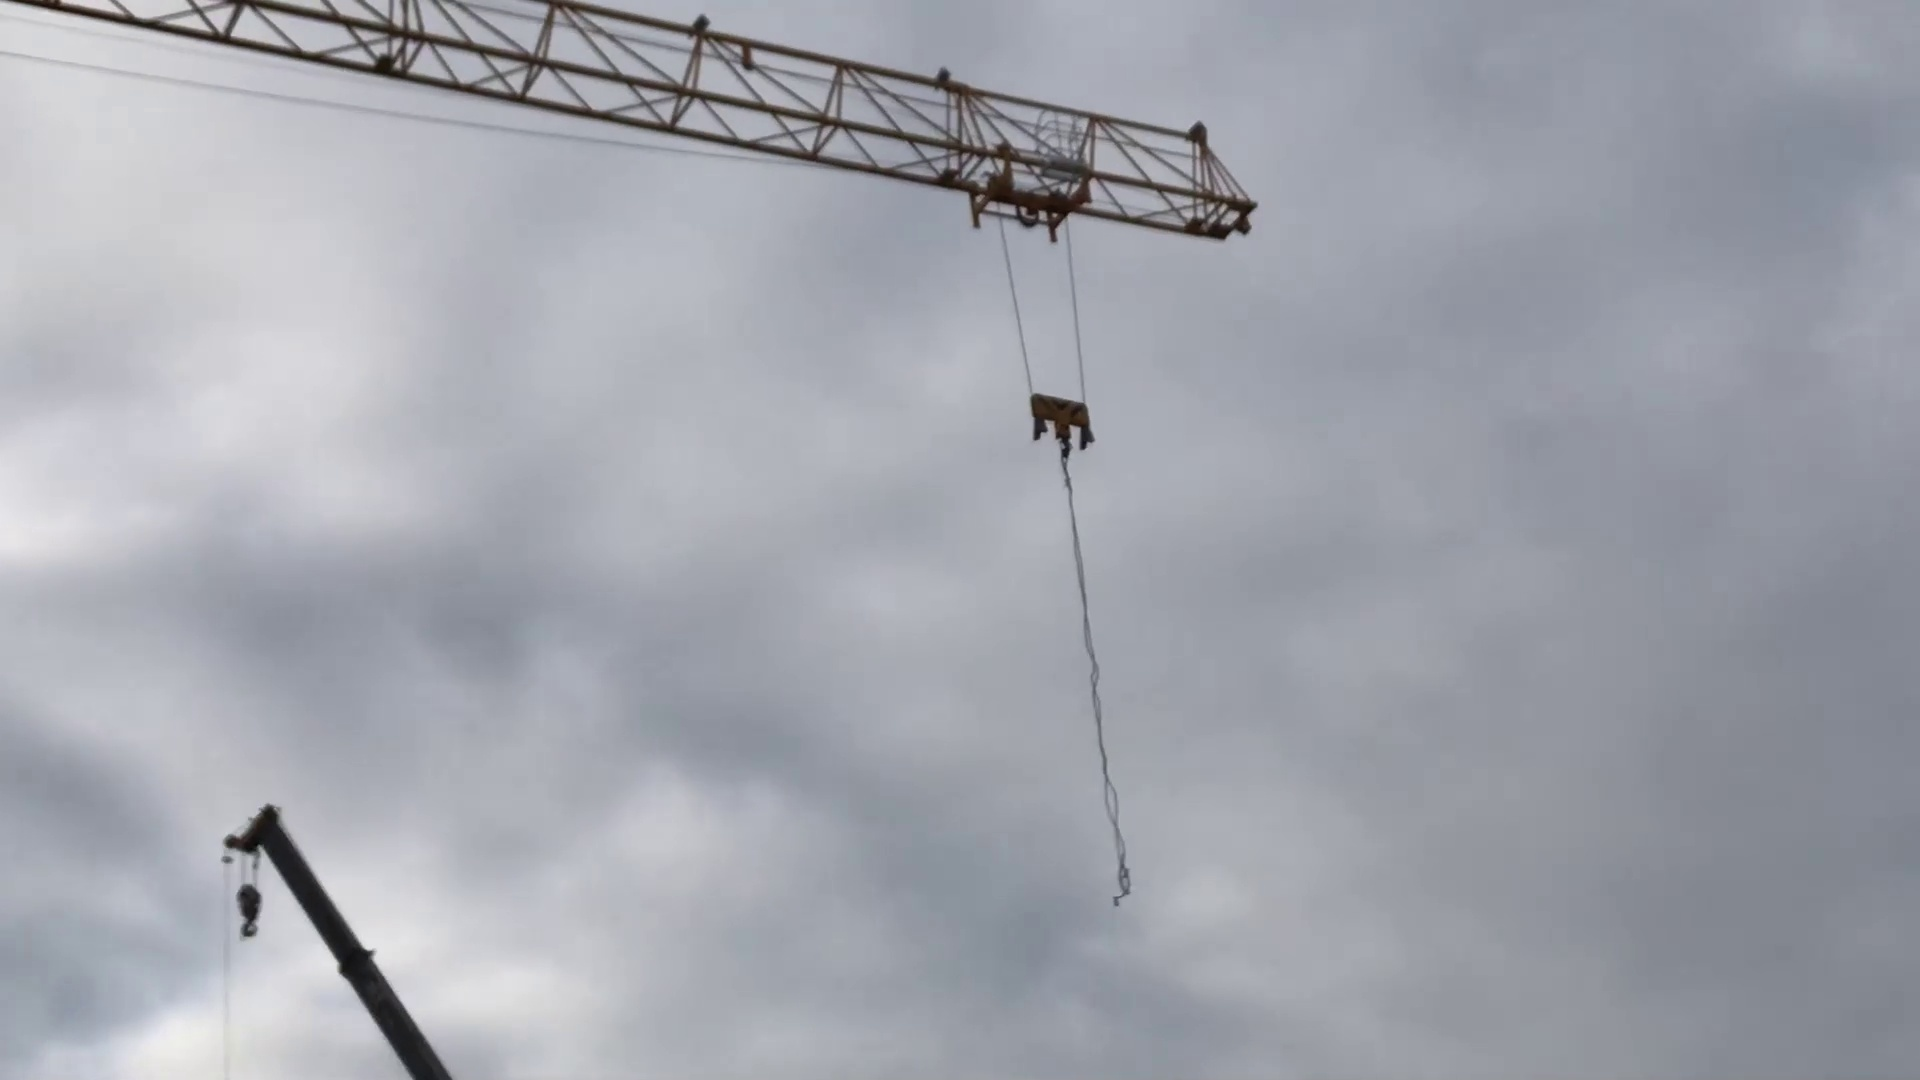hook: (1015, 382, 1106, 465), (219, 880, 268, 957)
